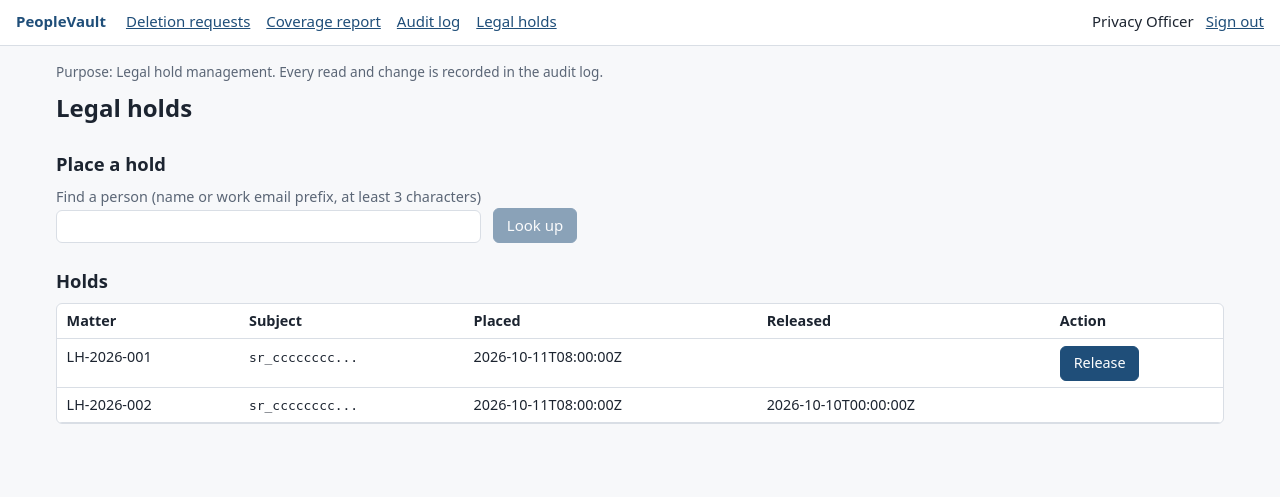
it: legal holds › releases a hold and reports resubmitted and deferred requests
Click the button "Release" at x=1100, y=363, box [1060,346,1139,381]
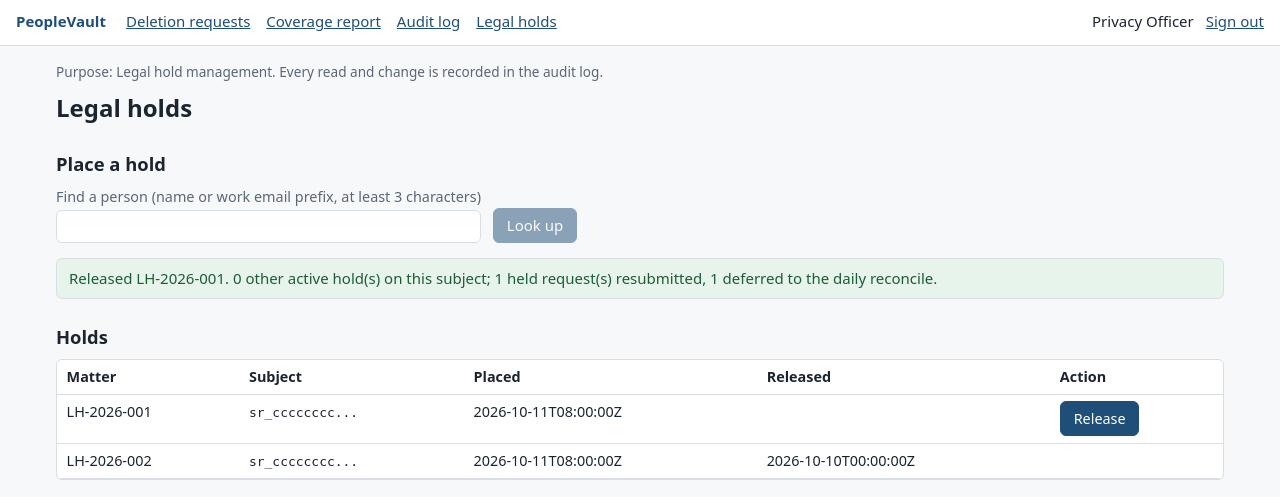
Check: the text "1 held request(s) resubmitted, 1 deferred to the daily reconcile" is shown, box [69,268,937,288]
